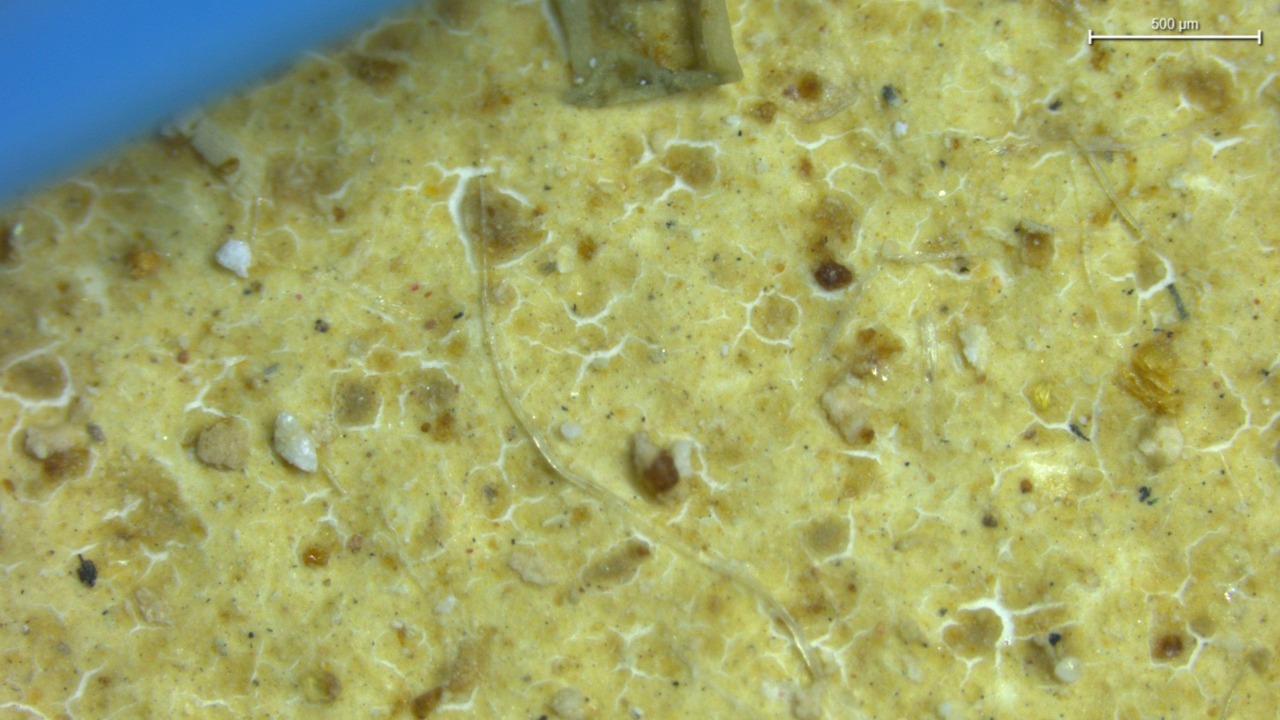microplastic_fragment: (274, 412, 318, 472), (216, 238, 251, 277)
